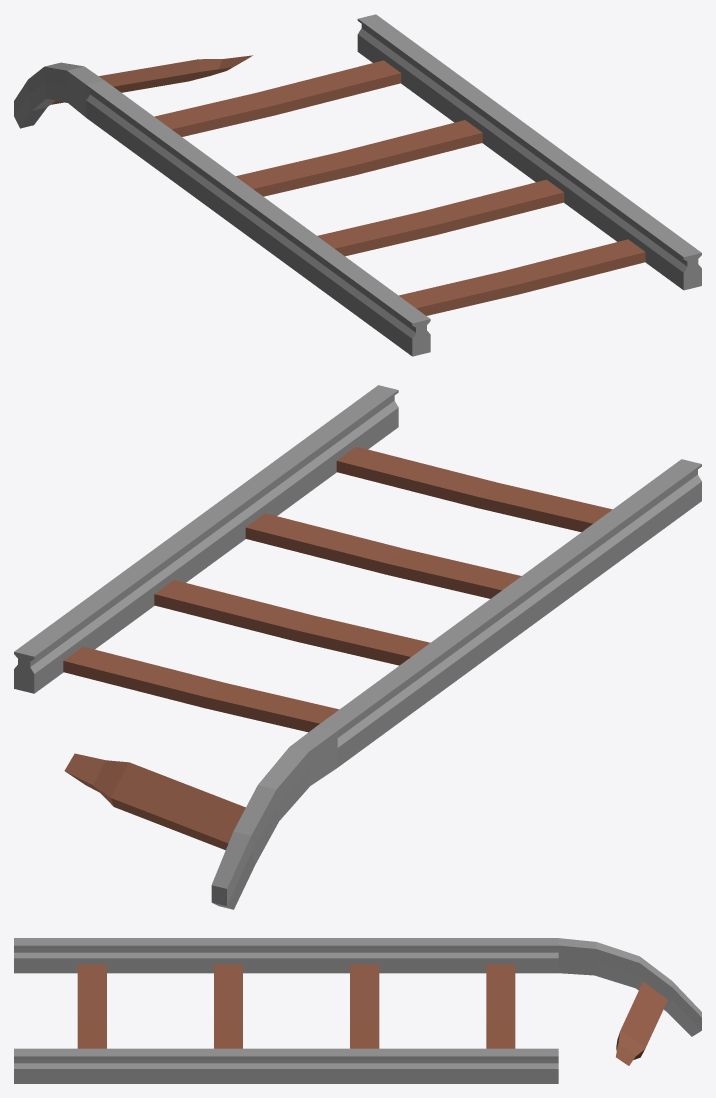
The model's file is RailAbruptEnd.fbx.
The picture shows the model from 3 angles, top to bottom: view 1: azimuth 30°, elevation 25°; view 2: azimuth 150°, elevation 25°; view 3: azimuth 270°, elevation 25°; orthographic projection. The views are drawn at different scales.
Parts seen in each view (by area): view 1: Cube.001; view 2: Cube.001; view 3: Cube.001.
Boxes of the visible parts, bbox=[...] form: Cube.001: bbox=[14, 14, 701, 356]; Cube.001: bbox=[14, 385, 701, 909]; Cube.001: bbox=[14, 938, 701, 1083].
Bounding box in the file's own units: 1048 × 364 × 2581.
